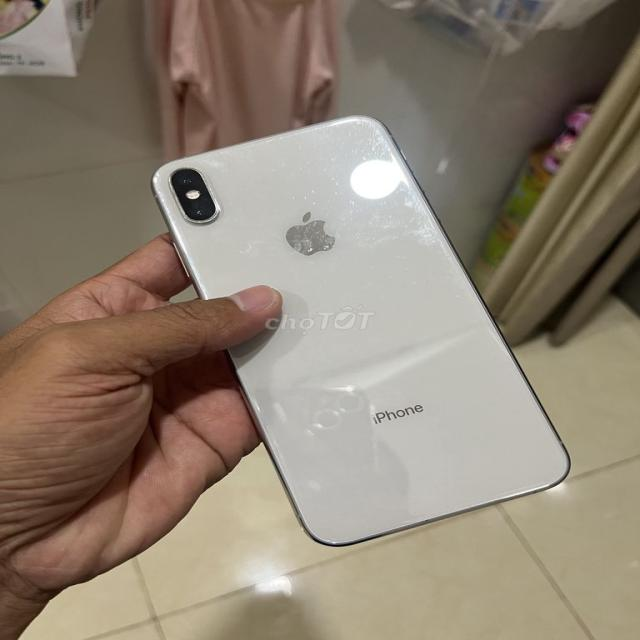gen_x_xs: (91, 102, 604, 562)
scratch: (263, 115, 449, 257)
